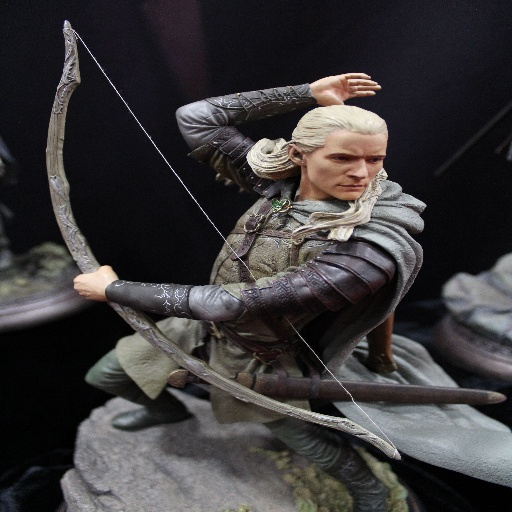hand: (306, 67, 390, 100), (70, 263, 120, 303)
